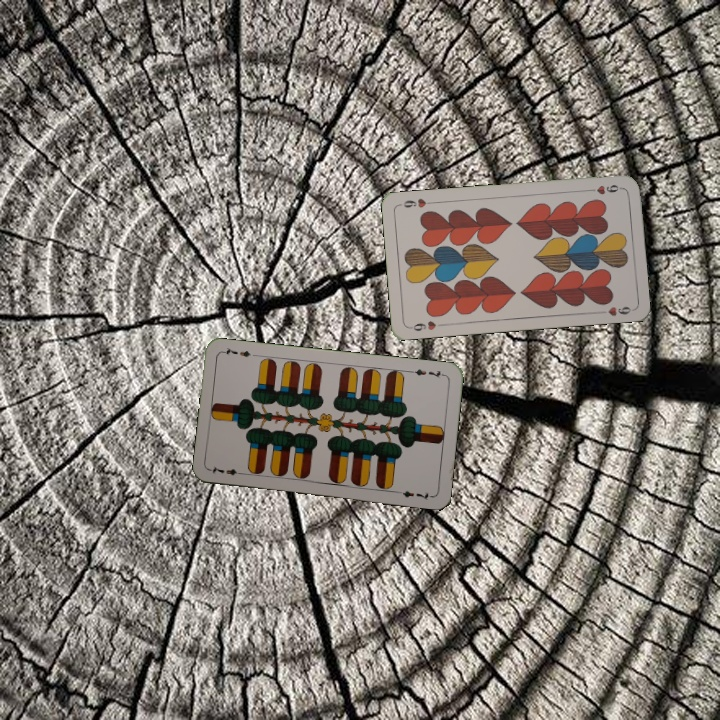E7: (207, 462, 247, 478), (407, 365, 447, 380)
H9: (406, 317, 446, 334), (584, 181, 624, 197)
